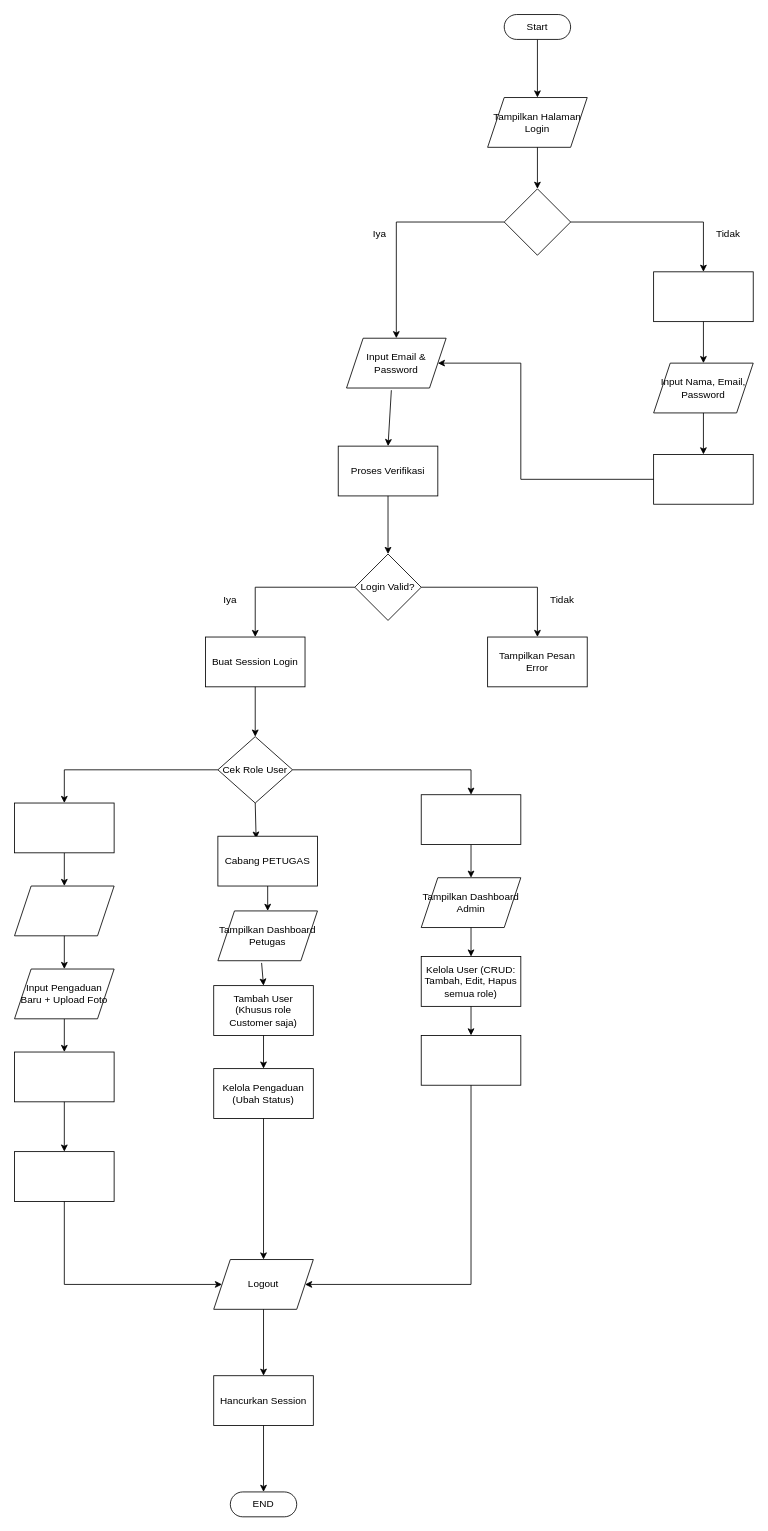
The diagram is 768 pixels wide and 1531 high, and some of its shapes have lost their labels. Each missing label, with the centre of its shape:
"Cabang ADMIN" belongs at pixel 470 819.
"Cabang CUSTOMER" belongs at pixel 64 827.
"Edit Profil & Password" belongs at pixel 64 1176.
"Ke Halaman Register" belongs at pixel 703 296.
"Kelola Pengaduan (Ubah Status: Menunggu" belongs at pixel 470 1060.
"Proses Simpan ke DB (Role = Customer)" belongs at pixel 703 479.
"Punya Akun?" belongs at pixel 537 221.
"Simpan Pengaduan" belongs at pixel 64 1076.
"Tampilkan Dashboard Customer" belongs at pixel 64 910.
